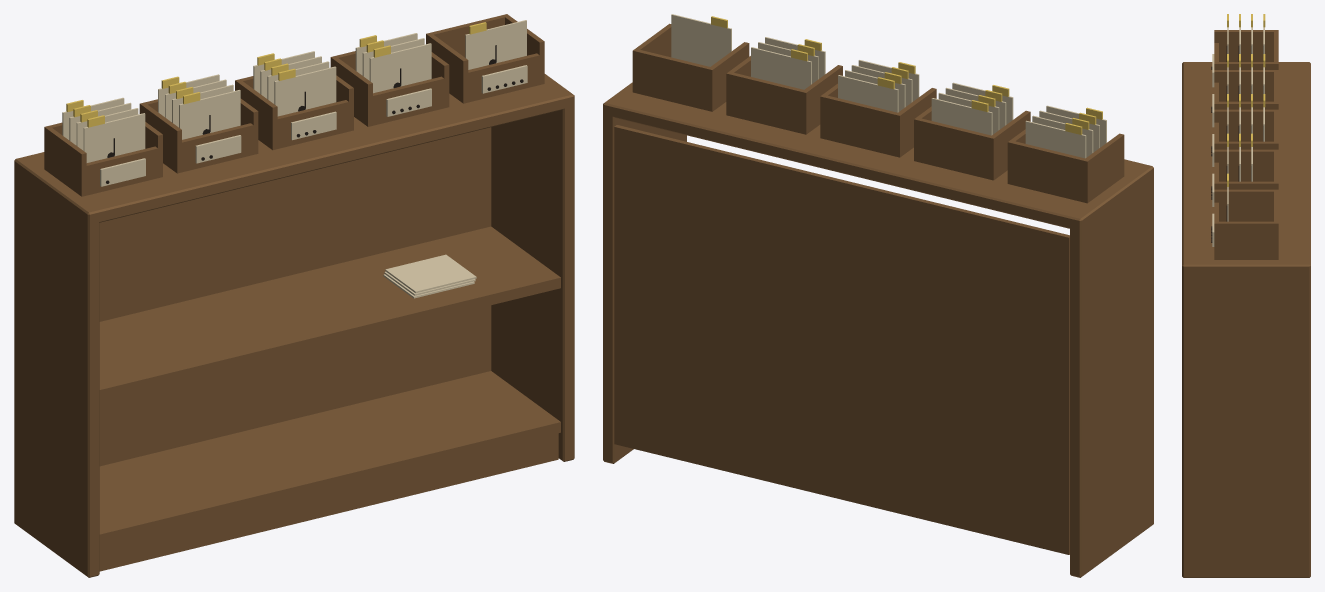
File: Prop_YTM_CardShelf_Filled.glb
The picture shows the model from 3 angles, left to right: view 1: azimuth 30°, elevation 25°; view 2: azimuth 150°, elevation 25°; view 3: azimuth 270°, elevation 25°; orthographic projection. The views are drawn at different scales.
Parts seen in each view (by area): view 1: Prop_YTM_CardShelf_Filled, Prop_YTM_CardShelf_Filled_Cards; view 2: Prop_YTM_CardShelf_Filled, Prop_YTM_CardShelf_Filled_Cards; view 3: Prop_YTM_CardShelf_Filled, Prop_YTM_CardShelf_Filled_Cards.
Boxes of the visible parts, x1,y1,x2,y2 form: Prop_YTM_CardShelf_Filled: (14,14,574,577); Prop_YTM_CardShelf_Filled_Cards: (62,20,526,162); Prop_YTM_CardShelf_Filled: (603,23,1153,577); Prop_YTM_CardShelf_Filled_Cards: (671,14,1106,158); Prop_YTM_CardShelf_Filled: (1182,30,1310,577); Prop_YTM_CardShelf_Filled_Cards: (1226,14,1265,221).
Size of what is drawn, in the model's own units: 1.2 by 1.02 by 0.32.
